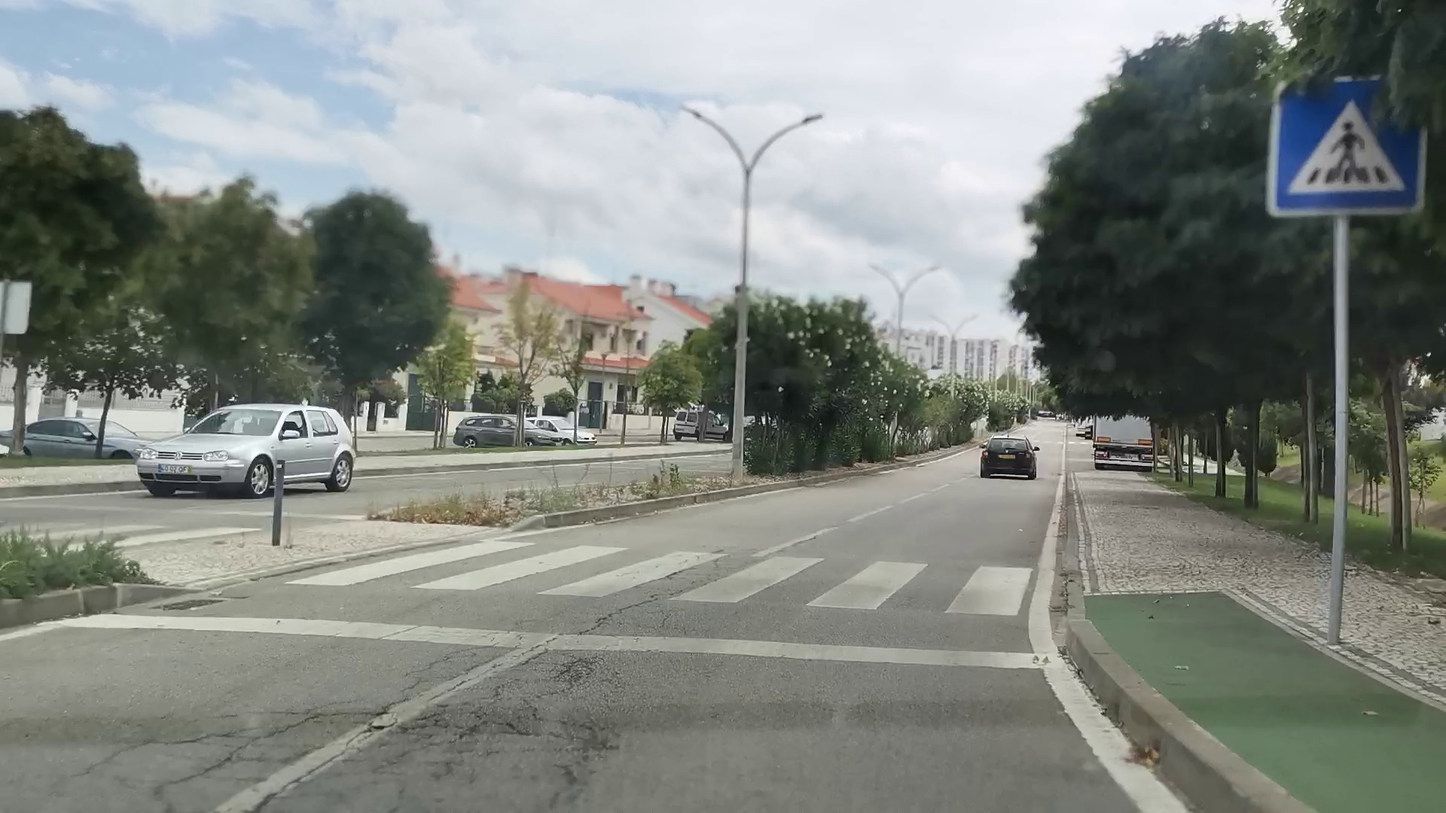Stairs: (290, 537, 1046, 617)
